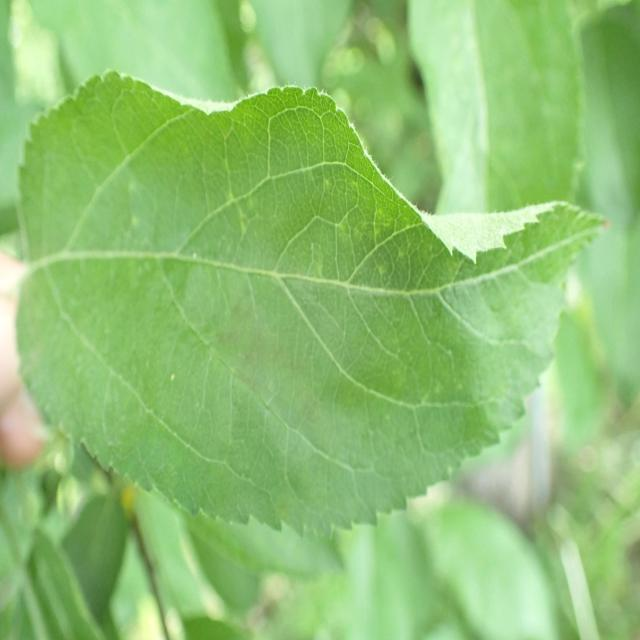scab: (184, 286, 364, 462)
